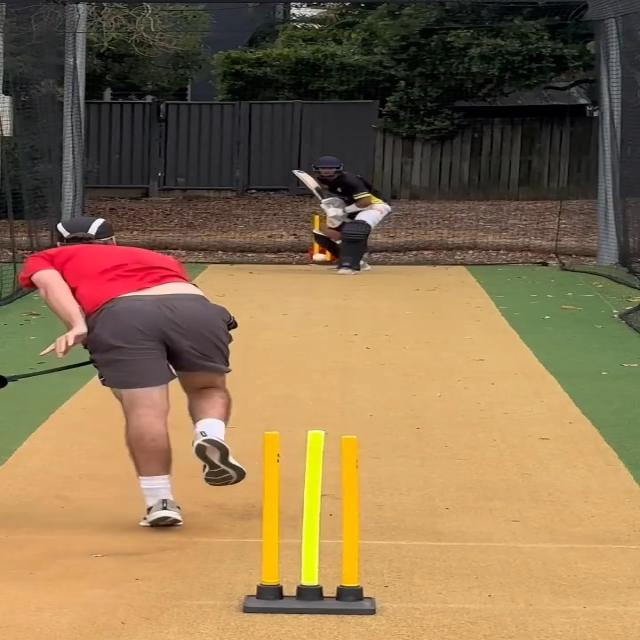ball: (310, 252, 330, 264)
stump: (246, 429, 377, 615)
